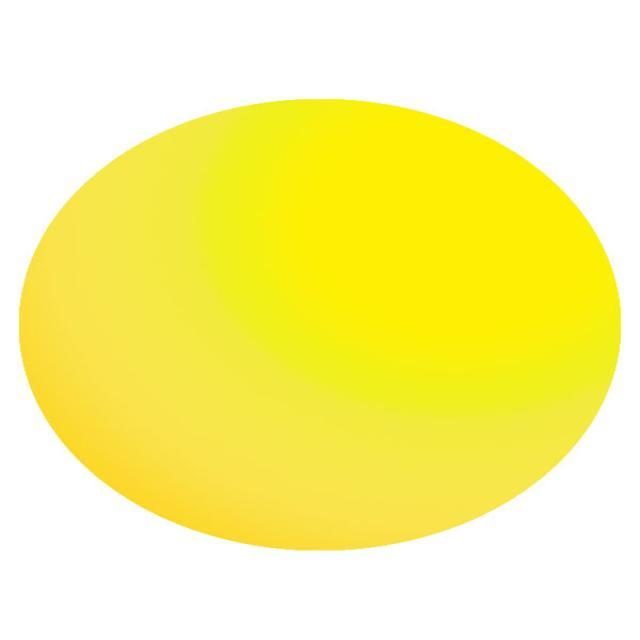Circle: (13, 93, 640, 558)
